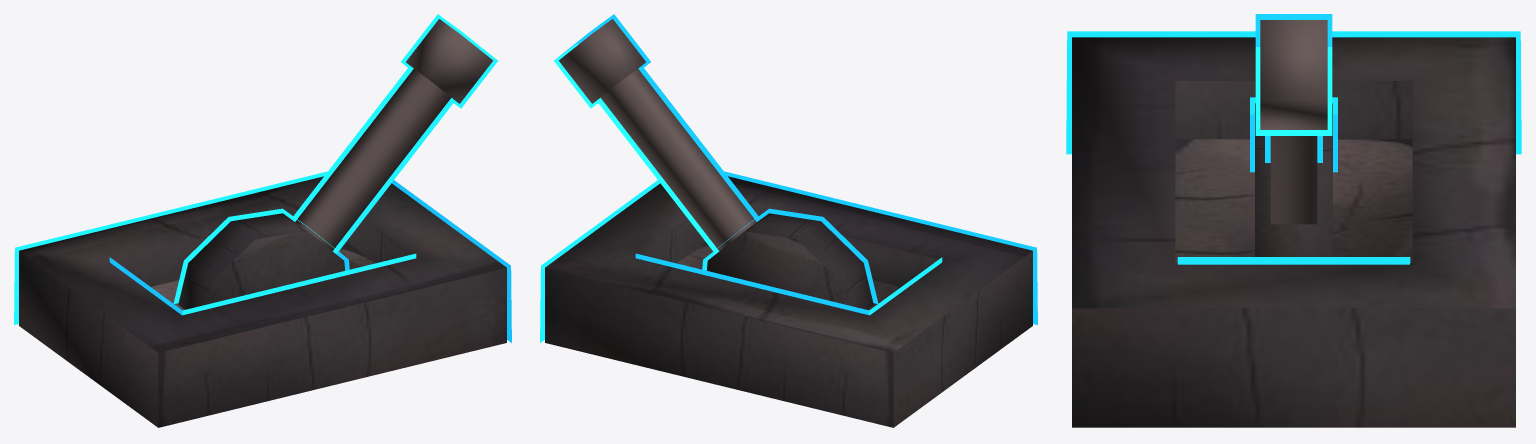
Rendered from lever.glb.
The picture shows the model from 3 angles, left to right: view 1: azimuth 30°, elevation 25°; view 2: azimuth 150°, elevation 25°; view 3: azimuth 270°, elevation 25°; orthographic projection. The views are drawn at different scales.
Visible parts, largest first — view 1: LeverBase, Lever, LeverBaseOutline, LeverOutline; view 2: LeverBase, Lever, LeverBaseOutline, LeverOutline; view 3: LeverBase, Lever, LeverBaseOutline, LeverOutline.
Part boxes in pixels (left/top/right/bottom): LeverBase: left=19, top=176, right=506, bottom=427; Lever: left=178, top=19, right=492, bottom=309; LeverBaseOutline: left=14, top=171, right=511, bottom=342; LeverOutline: left=173, top=14, right=497, bottom=303; LeverBase: left=545, top=176, right=1032, bottom=427; Lever: left=559, top=19, right=873, bottom=309; LeverBaseOutline: left=540, top=171, right=1037, bottom=342; LeverOutline: left=554, top=14, right=878, bottom=303; LeverBase: left=1072, top=37, right=1515, bottom=427; Lever: left=1255, top=20, right=1332, bottom=256; LeverBaseOutline: left=1066, top=31, right=1521, bottom=264; LeverOutline: left=1250, top=14, right=1337, bottom=172.
Size of what is drawn, in the model's own units: 1.02 by 0.7687 by 0.629.
2 materials, 2 textured.
